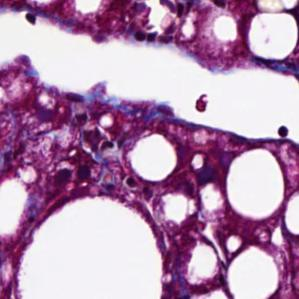inflammation: (32, 97, 93, 142), (45, 153, 101, 191)
